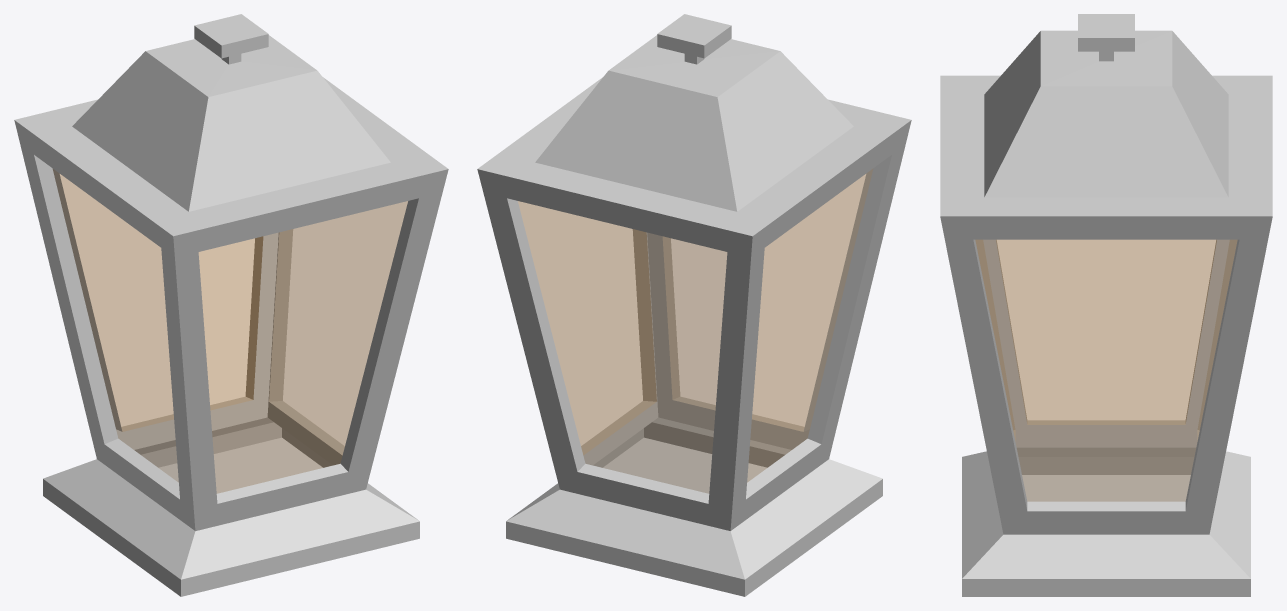
The model's file is Lampu.fbx.
The picture shows the model from 3 angles, left to right: view 1: azimuth 30°, elevation 25°; view 2: azimuth 150°, elevation 25°; view 3: azimuth 270°, elevation 25°; orthographic projection. The views are drawn at different scales.
Parts seen in each view (by area): view 1: Lampu; view 2: Lampu; view 3: Lampu.
Boxes of the visible parts, x1=… form: Lampu: x1=14, y1=14, x2=448, y2=596; Lampu: x1=477, y1=14, x2=911, y2=596; Lampu: x1=940, y1=14, x2=1272, y2=596.
Bounding box in the file's own units: 37.73 × 63.82 × 37.73.
